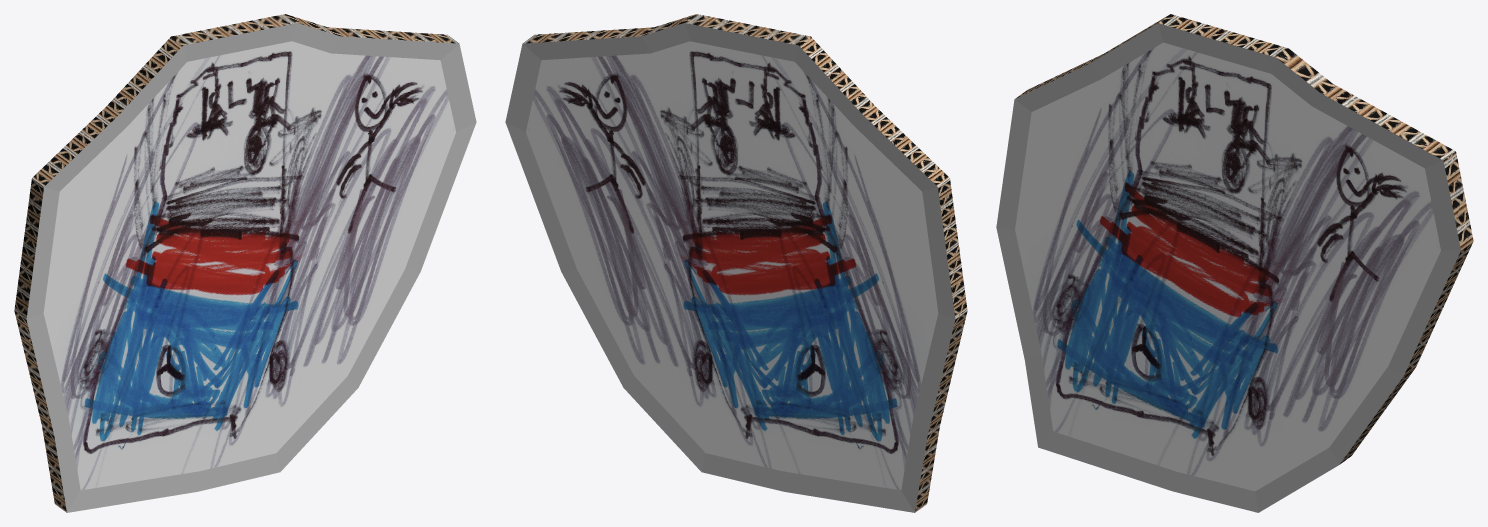
Rendered from Mersu.fbx.
3 renders of one model, left to right at view 1: azimuth 30°, elevation 25°; view 2: azimuth 150°, elevation 25°; view 3: azimuth 330°, elevation 25°, orthographic. The views are drawn at different scales.
Parts seen in each view (by area): view 1: Mersu; view 2: Mersu; view 3: Mersu.
Boxes of the visible parts, <box> form: Mersu: <box>14,14,476,512</box>; Mersu: <box>505,14,967,512</box>; Mersu: <box>996,14,1473,512</box>.
Size of the model in its own units: 211 by 202 by 9.86.
